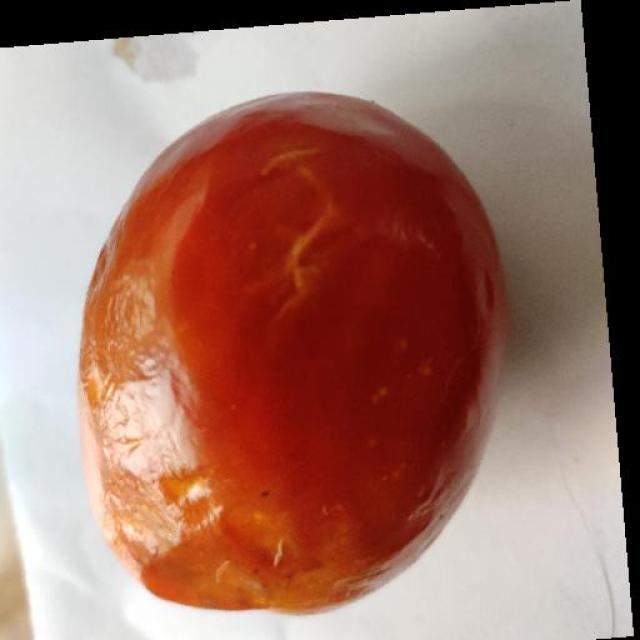Stale_tomato: (60, 124, 529, 611)
